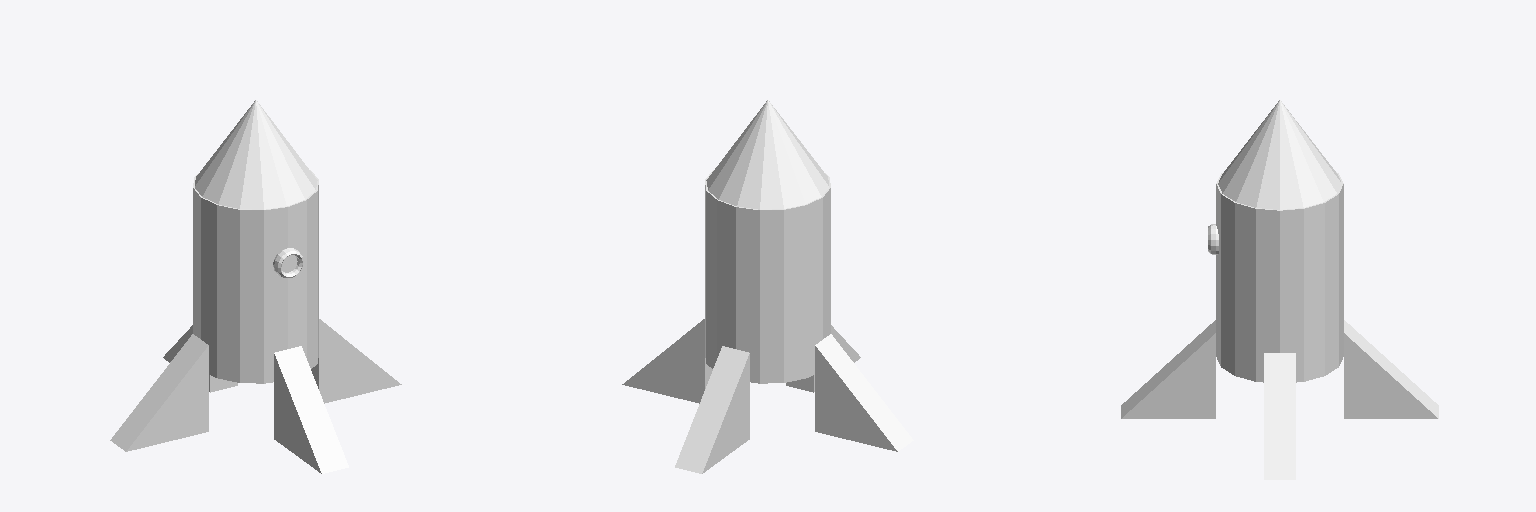
The model's file is toy_rocket.obj.
3 views of the same model, side by side, from view 1: azimuth 30°, elevation 25°; view 2: azimuth 150°, elevation 25°; view 3: azimuth 270°, elevation 25° (orthographic).
Visible parts, largest first — view 1: cone2; view 2: cone2; view 3: cone2.
Part boxes in pixels (bbox=[...]): cone2: bbox=[110, 100, 401, 473]; cone2: bbox=[622, 100, 913, 473]; cone2: bbox=[1121, 100, 1438, 479].
Bounding box in the file's own units: 10 × 10.85 × 10.